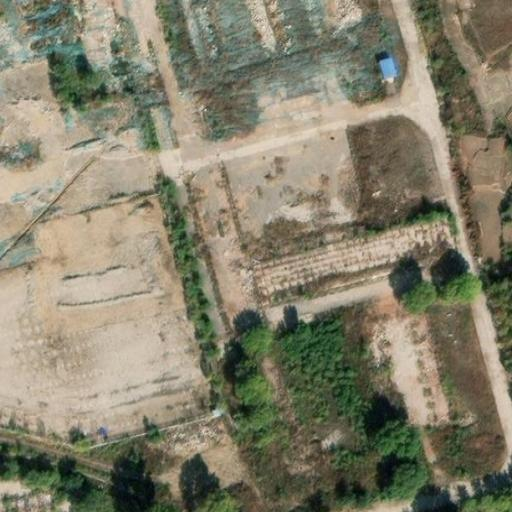building: (379, 60, 396, 78)
